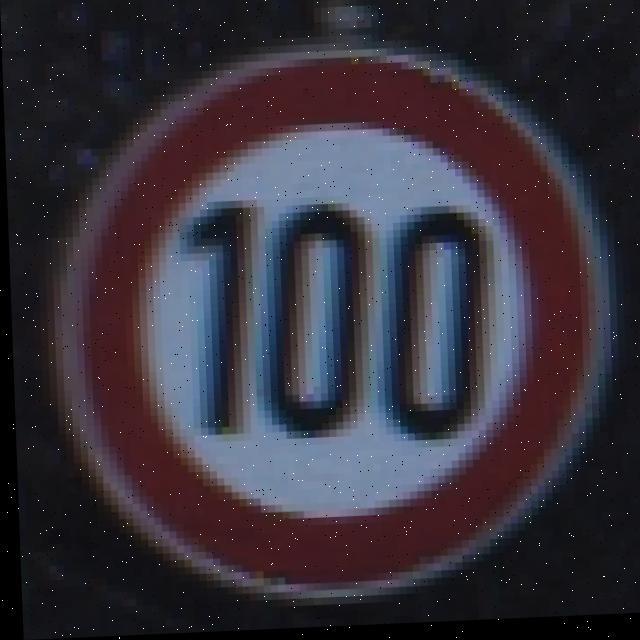speed_limit_100: (85, 29, 609, 599)
